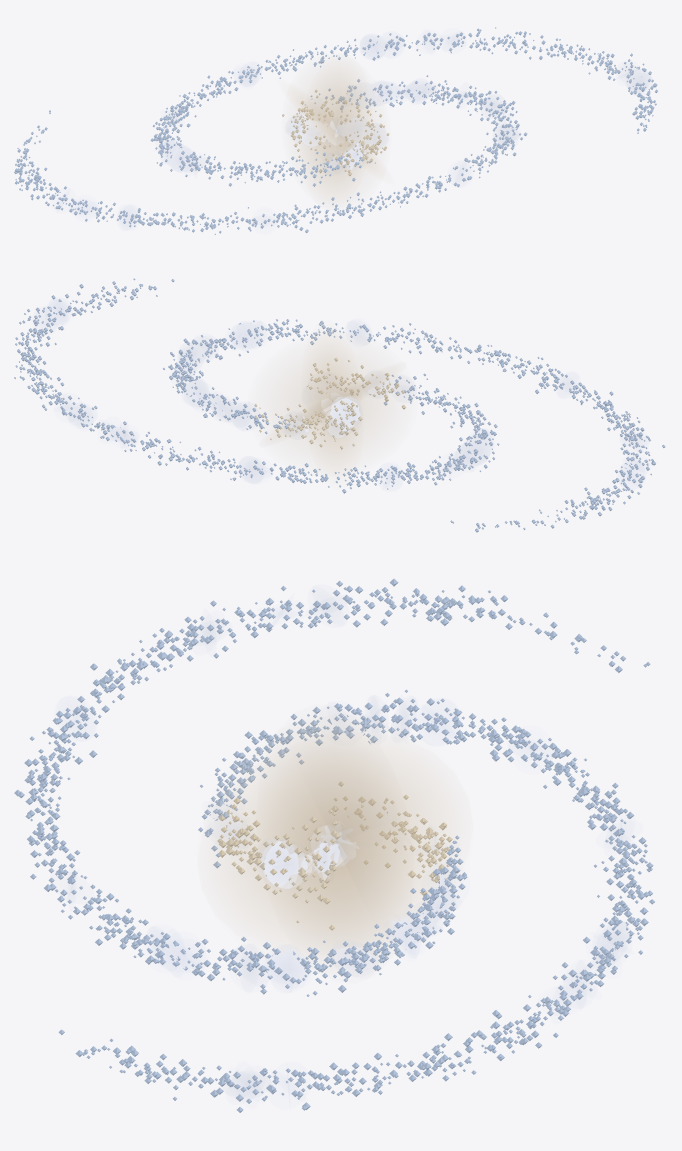
3 renders of one model, top to bottom at view 1: azimuth 30°, elevation 25°; view 2: azimuth 150°, elevation 25°; view 3: azimuth 270°, elevation 25°, orthographic. The views are drawn at different scales.
Size of the model in its own units: 7.19 by 1.78 by 3.83.
